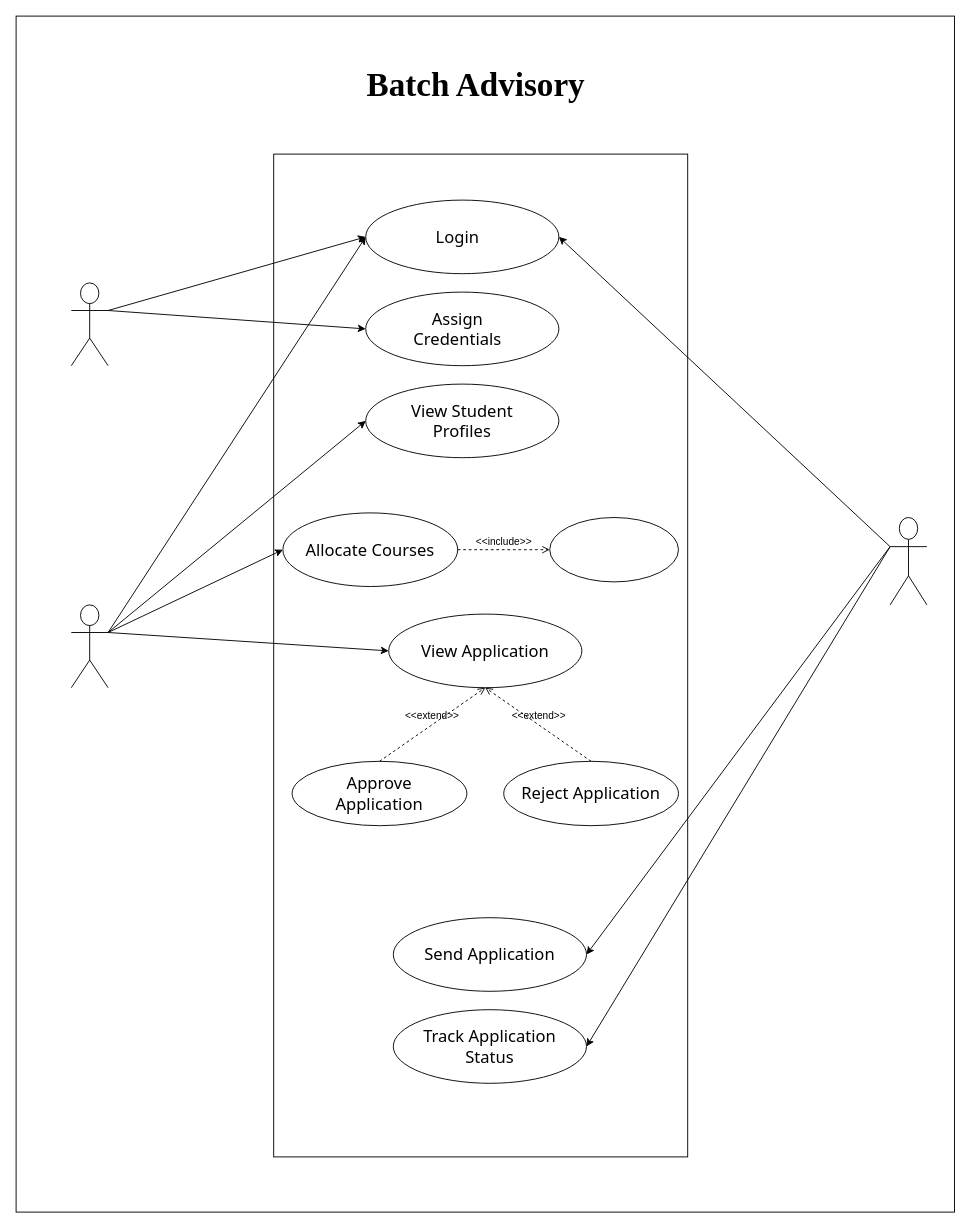
The diagram is 971 pixels wide and 1228 high, and some of its shapes have lost their labels. Here are the shapes that lost their labels. From the top down, the centre of each, then its label:
At point (89, 324): "Admin".
At point (613, 549): "View SOS".
At point (908, 561): "Student".
At point (89, 646): "Batch Advisor".
